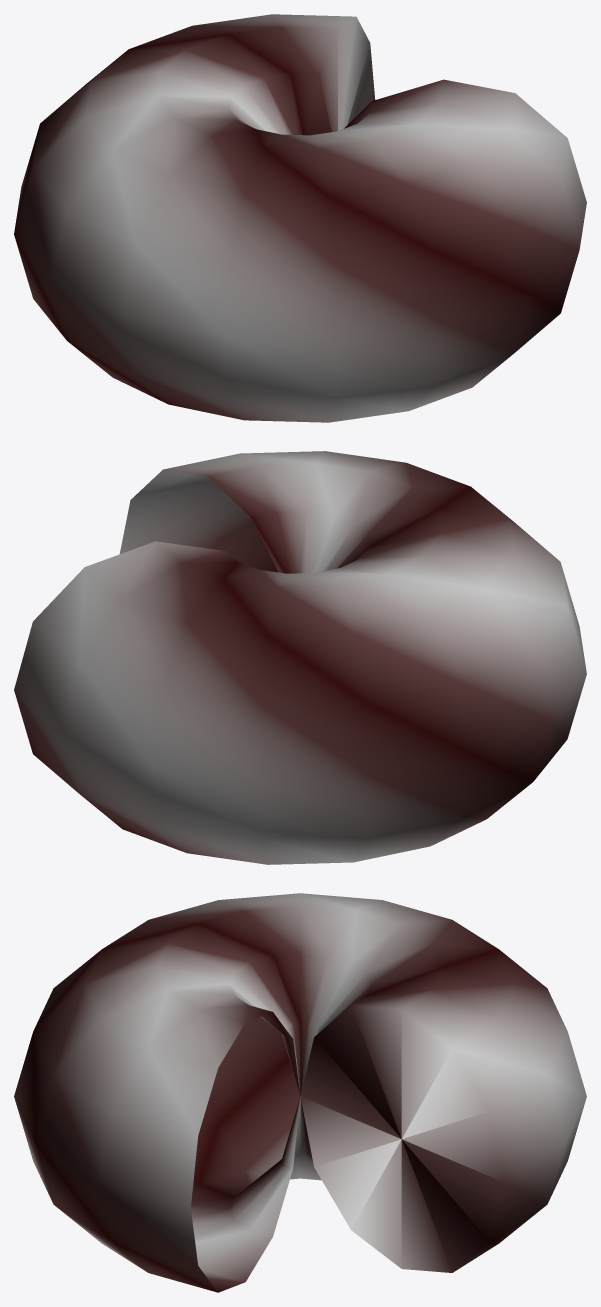
The model's file is shell.obj.
3 renders of one model, top to bottom at view 1: azimuth 30°, elevation 25°; view 2: azimuth 150°, elevation 25°; view 3: azimuth 270°, elevation 25°, orthographic. The views are drawn at different scales.
Size of the model in its own units: 3.85 by 2 by 4.
